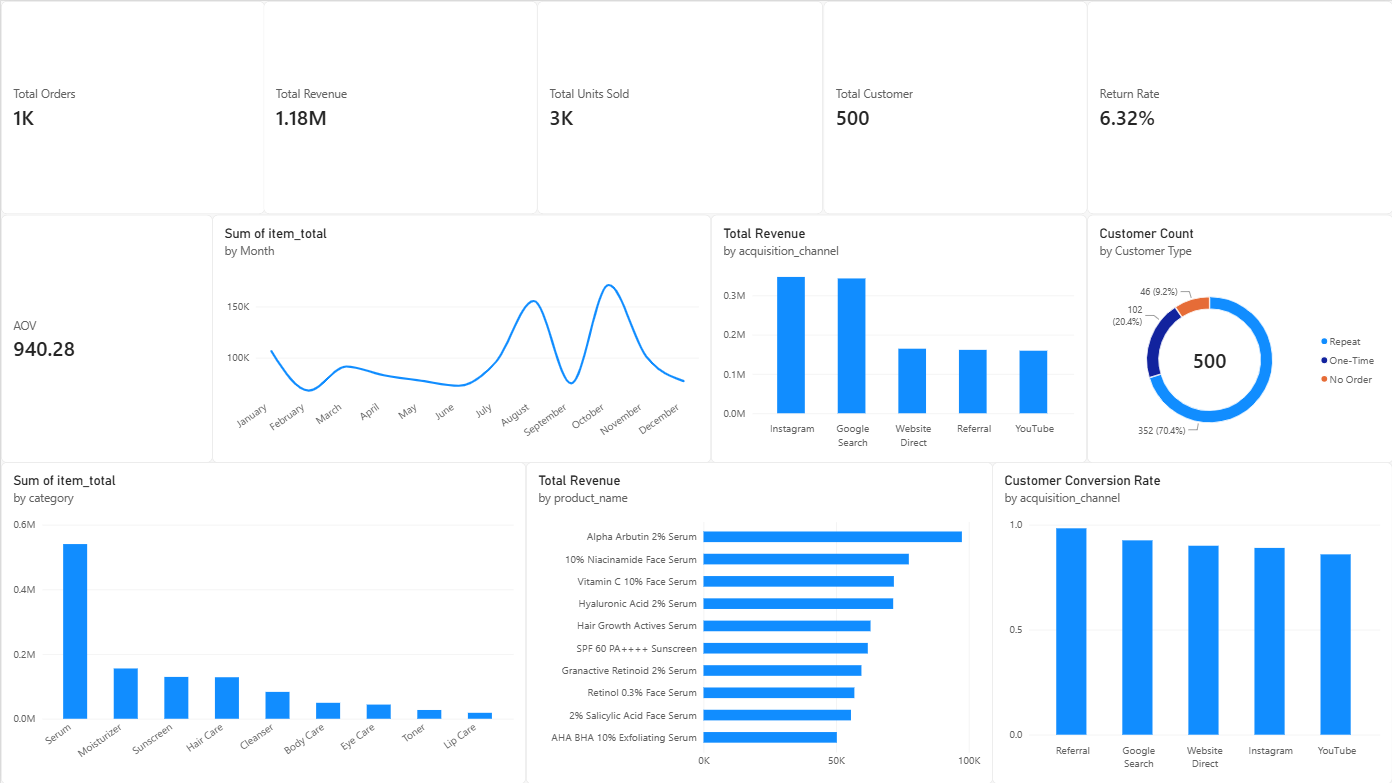

What the dashboard file says about the page in this screenshot:
{"tool":"powerbi","page":{"name":"Overview","canvas":[1920,1080],"ordinal":0},"visuals":[{"type":"cardVisual","fields":{"Data":["Customers.Total Orders"]},"box":[0,0,364,294],"z":0},{"type":"cardVisual","fields":{"Data":["Customers.Total Revenue"]},"box":[362,0,378,294],"z":1000},{"type":"cardVisual","fields":{"Data":["Customers.AOV"]},"box":[0,294,292,342],"z":2000},{"type":"cardVisual","fields":{"Data":["Customers.Customer Count"]},"box":[1134,0,364,294],"z":3000},{"type":"lineChart","fields":{"Category":["Orders.order_date.Variation.Date Hierarchy.Year","Orders.order_date.Variation.Date Hierarchy.Quarter","Orders.order_date.Variation.Date Hierarchy.Month","Orders.order_date.Variation.Date Hierarchy.Day"],"Y":["Sum(Order_Items.item_total)"]},"box":[292,294,688,342],"z":4000},{"type":"clusteredColumnChart","fields":{"Category":["Products.category"],"Y":["Sum(Order_Items.item_total)"]},"box":[0,636,724,444],"z":5000},{"type":"cardVisual","fields":{"Data":["Customers.Total Units Sold"]},"box":[740,0,394,294],"z":6000},{"type":"clusteredColumnChart","fields":{"Category":["Customers.acquisition_channel"],"Y":["Customers.Total Revenue"]},"box":[980,294,518,342],"z":7000},{"type":"clusteredColumnChart","fields":{"Category":["Customers.acquisition_channel"],"Y":["Customers.Customer Conversion Rate"]},"box":[1368,636,552,444],"z":8000},{"type":"donutChart","fields":{"Category":["Customers.Customer Type"],"Y":["Customers.Customer Count"]},"box":[1498,294,422,342],"z":9000},{"type":"clusteredBarChart","fields":{"Category":["Products.product_name"],"Y":["Customers.Total Revenue"]},"box":[724,636,644,444],"z":10000},{"type":"cardVisual","fields":{"Data":["Customers.Return Rate"]},"box":[1498,0,422,294],"z":11000}]}

Visuals, with their boxes in screenshot pixels (x1, y1, x2, y2), scaled from the page's 1920x1080 canvas onto the 1392x783 screenshot:
cardVisual - Customers.Total Orders: left=0, top=0, right=264, bottom=213
cardVisual - Customers.Total Revenue: left=262, top=0, right=536, bottom=213
cardVisual - Customers.AOV: left=0, top=213, right=212, bottom=461
cardVisual - Customers.Customer Count: left=822, top=0, right=1086, bottom=213
lineChart - Orders.order_date.Variation.Date Hierarchy.Year x Orders.order_date.Variation.Date Hierarchy.Quarter: left=212, top=213, right=710, bottom=461
clusteredColumnChart - Products.category x Sum(Order_Items.item_total): left=0, top=461, right=525, bottom=782
cardVisual - Customers.Total Units Sold: left=536, top=0, right=822, bottom=213
clusteredColumnChart - Customers.acquisition_channel x Customers.Total Revenue: left=710, top=213, right=1086, bottom=461
clusteredColumnChart - Customers.acquisition_channel x Customers.Customer Conversion Rate: left=992, top=461, right=1391, bottom=782
donutChart - Customers.Customer Type x Customers.Customer Count: left=1086, top=213, right=1391, bottom=461
clusteredBarChart - Products.product_name x Customers.Total Revenue: left=525, top=461, right=992, bottom=782
cardVisual - Customers.Return Rate: left=1086, top=0, right=1391, bottom=213
